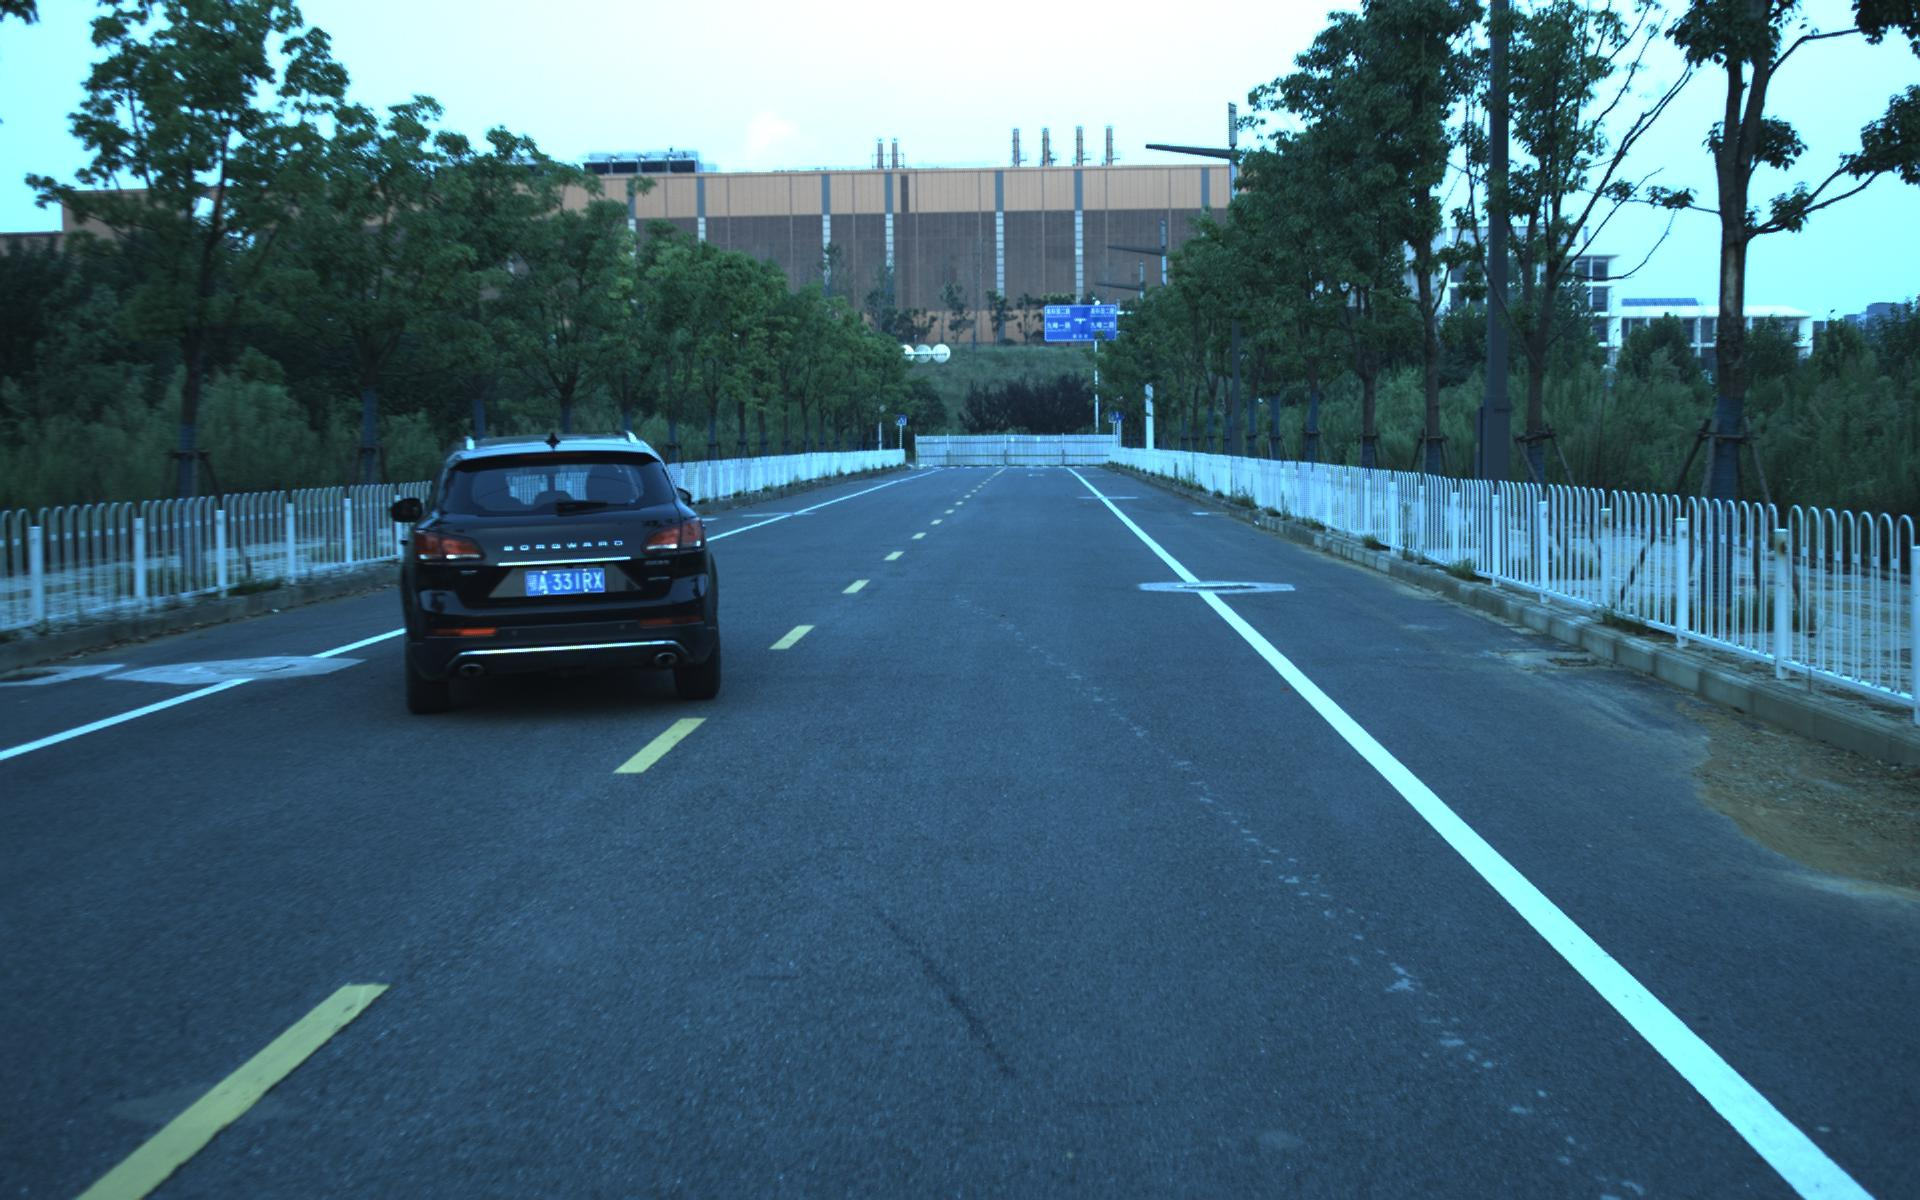Car: (391, 429, 734, 716)
